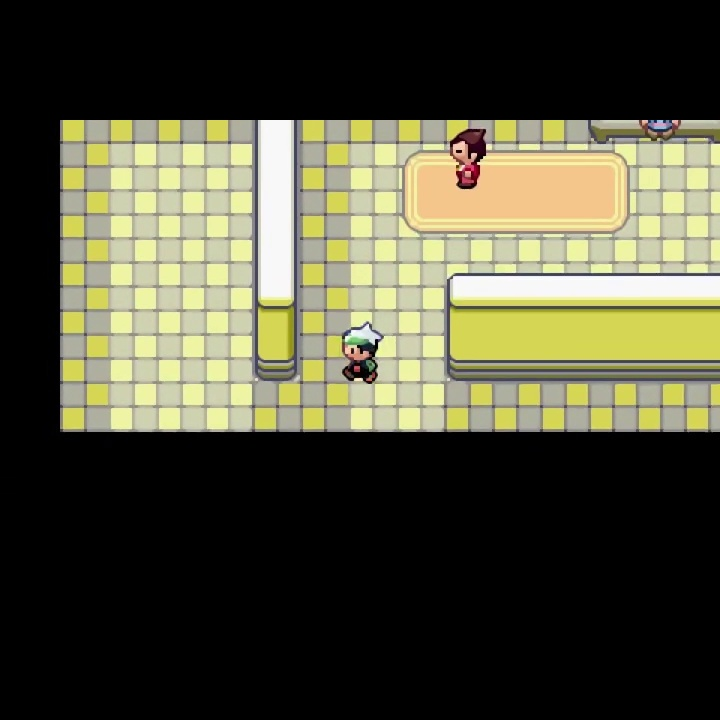npc: (339, 320, 385, 387), (446, 125, 489, 193)
